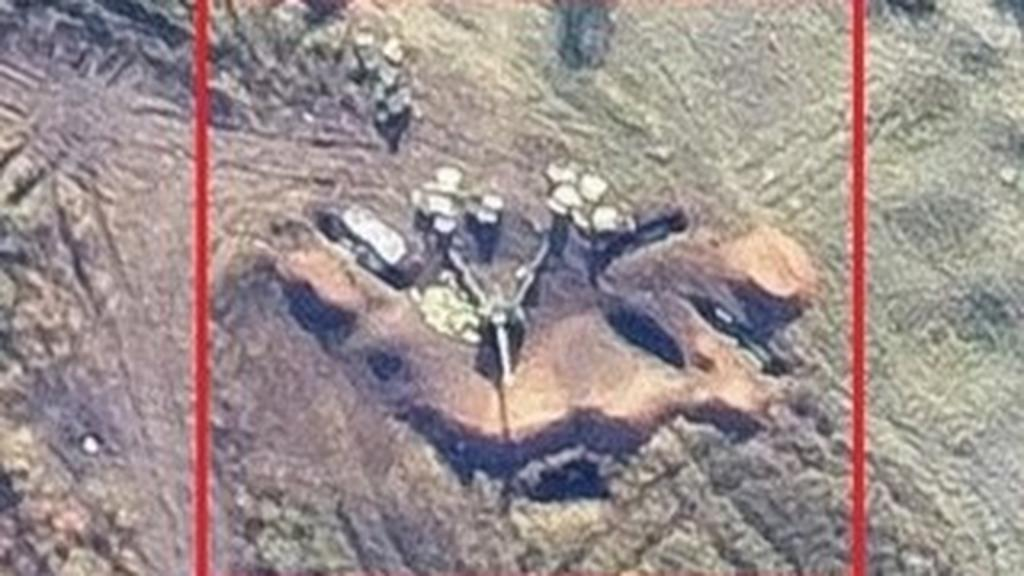ART: (438, 224, 558, 394)
